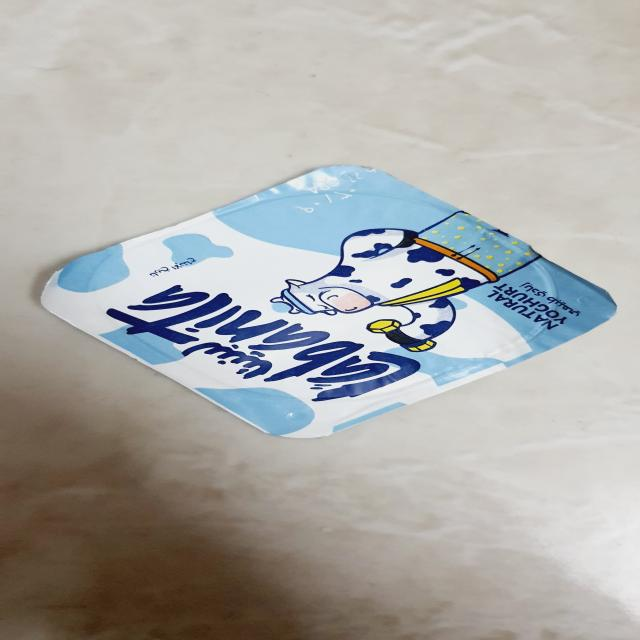Metal: (39, 164, 618, 439)
